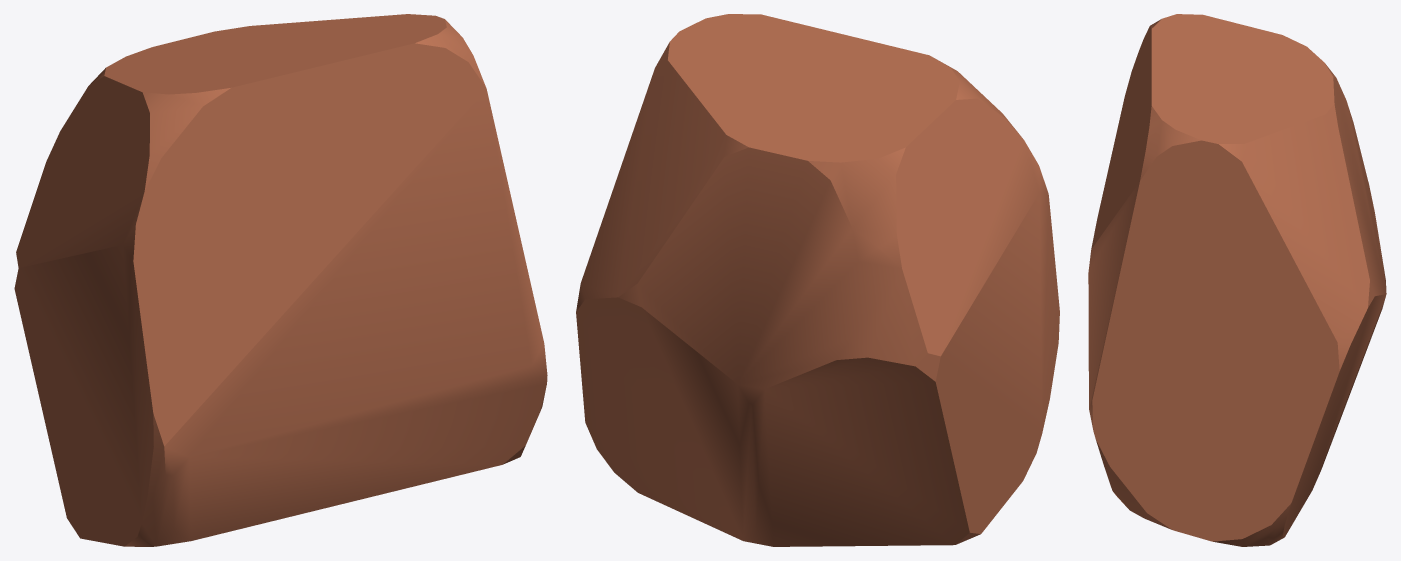
Rendered from Rock_07.fbx.
3 renders of one model, left to right at view 1: azimuth 30°, elevation 25°; view 2: azimuth 150°, elevation 25°; view 3: azimuth 270°, elevation 25°, orthographic. The views are drawn at different scales.
Visible parts, largest first — view 1: Rock_07; view 2: Rock_07; view 3: Rock_07.
Part boxes in pixels (box(x1,y1,x2,y2)): Rock_07: box(14, 14, 547, 546); Rock_07: box(576, 14, 1059, 546); Rock_07: box(1088, 14, 1386, 546).
Bounding box in the file's own units: 227 × 256 × 166.
